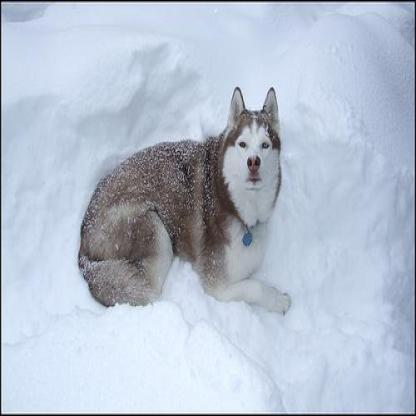Siberian_husky: (76, 83, 293, 314)
